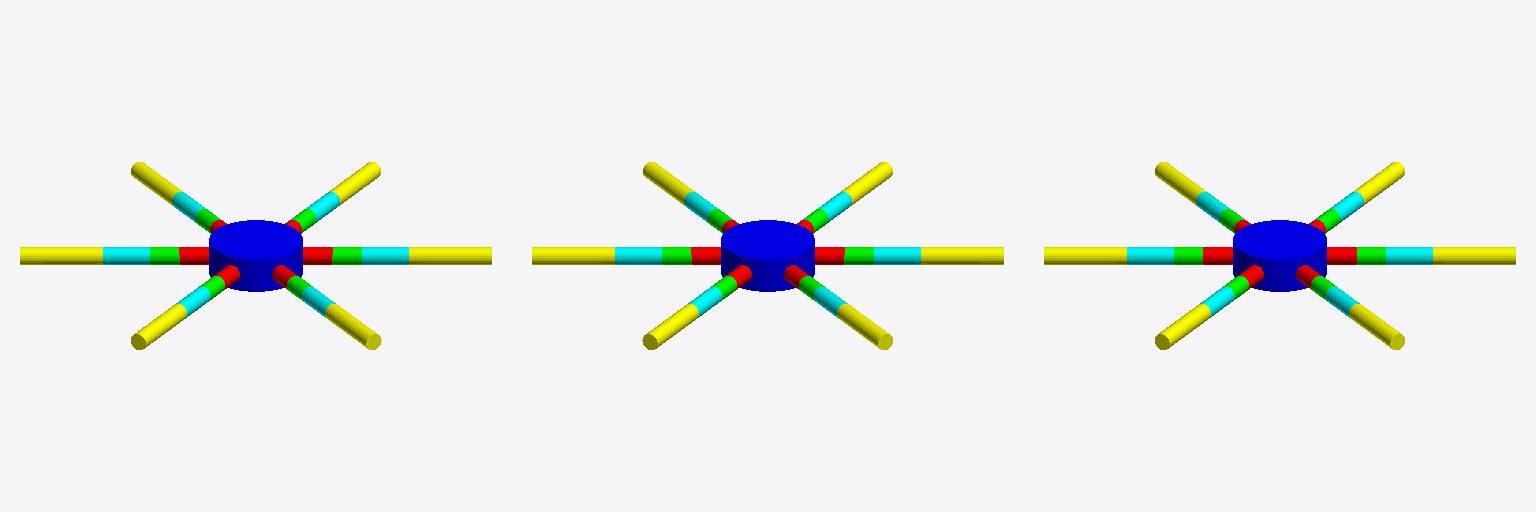
URDF robot description (hexapod):

<robot name="hexapod">

  <link name="body">
    <visual>
      <geometry>
        <cylinder radius="0.08" length="0.06"/>
      </geometry>
      <origin xyz="0 0 0"/>
      <material name="blue">
        <color rgba="0 0 1 1"/>
      </material>
    </visual>
    <collision>
      <geometry>
        <cylinder radius="0.08" length="0.06"/>
      </geometry>
      <origin xyz="0 0 0"/>
    </collision>
    <inertial>
      <mass value="0.5"/>
      <inertia ixx="0.001" ixy="0.0" ixz="0.0" iyy="0.001" iyz="0.0" izz="0.001"/>
    </inertial>
  </link>


  <link name="a1">
    <visual>
      <geometry>
        <cylinder radius="0.015" length="0.05"/>
      </geometry>
      <origin rpy="1.57 0 0" xyz="0 0.025 0" />
      <material name="red">
        <color rgba="1 0 0 1"/>
      </material>
    </visual>
    <collision>
      <geometry>
        <cylinder radius="0.015" length="0.05"/>
      </geometry>
      <origin rpy="1.57 0 0" xyz="0 0.025 0" />
    </collision>
    <inertial>
      <mass value="0.1"/>
      <inertia ixx="0.001" ixy="0.0" ixz="0.0" iyy="0.001" iyz="0.0" izz="0.001"/>
    </inertial>
  </link>

  <joint name="a1_to_body" type="fixed">
    <origin rpy="0 0 0" xyz="0 0.08 0"/>
    <parent link="body"/>
    <child link="a1"/>
  </joint>

  <!-- B -->

  <link name="b1">
    <visual>
      <geometry>
        <cylinder radius="0.015" length="0.05"/>
      </geometry>
      <origin rpy="1.57 0 0" xyz="0 0.025 0" />
      <material name="green">
        <color rgba="0 1 0 1"/>
      </material>
    </visual>
    <collision>
      <geometry>
        <cylinder radius="0.015" length="0.05"/>
      </geometry>
      <origin rpy="1.57 0 0" xyz="0 0.025 0" />
    </collision>
    <inertial>
      <mass value="0.1"/>
      <inertia ixx="0.001" ixy="0.0" ixz="0.0" iyy="0.001" iyz="0.0" izz="0.001"/>
    </inertial>

  </link>

  <joint name="u1" type="revolute">
    <origin rpy="0 0 0" xyz="0 0.05 0"/>
    <parent link="a1"/>
    <child link="b1"/>
    <axis xyz="0 0 1"/>
    <limit effort="10" lower="-1.57" upper="1.57" velocity="1"/>
  </joint>

  <link name="c1">
    <visual>
      <geometry>
        <cylinder radius="0.015" length="0.08"/>
      </geometry>
      <origin rpy="1.57 0 0" xyz="0 0.04 0" />
      <material name="cyan">
        <color rgba="0 1 1 1"/>
      </material>
    </visual>
    <collision>
      <geometry>
        <cylinder radius="0.015" length="0.08"/>
      </geometry>
      <origin rpy="1.57 0 0" xyz="0 0.04 0" />
    </collision>
    <inertial>
      <mass value="0.1"/>
      <inertia ixx="0.001" ixy="0.0" ixz="0.0" iyy="0.001" iyz="0.0" izz="0.001"/>
    </inertial>

  </link>

  <joint name="v1" type="revolute">
    <origin rpy="0 0 0" xyz="0 0.05 0"/>
    <parent link="b1"/>
    <child link="c1"/>
    <axis xyz="1 0 0"/>
    <limit effort="10" lower="-1.57" upper="1.57" velocity="1"/>
  </joint>

  <link name="d1">
    <visual>
      <geometry>
        <cylinder radius="0.015" length="0.14"/>
      </geometry>
      <origin rpy="1.57 0 0" xyz="0 0.07 0" />
      <material name="jaune">
        <color rgba="1 1 0 1"/>
      </material>
    </visual>
    <collision>
      <geometry>
        <cylinder radius="0.015" length="0.14"/>
      </geometry>
      <origin rpy="1.57 0 0" xyz="0 0.07 0" />
    </collision>
    <inertial>
      <mass value="0.1"/>
      <inertia ixx="0.001" ixy="0.0" ixz="0.0" iyy="0.001" iyz="0.0" izz="0.001"/>
    </inertial>

  </link>

  <joint name="w1" type="revolute">
    <origin rpy="0 0 0" xyz="0 0.08 0"/>
    <parent link="c1"/>
    <child link="d1"/>
    <axis xyz="1 0 0"/>
    <limit effort="10" lower="-1.57" upper="1.57" velocity="1"/>
  </joint>


  <link name="a2">
    <visual>
      <geometry>
        <cylinder radius="0.015" length="0.05"/>
      </geometry>
      <origin rpy="1.57 0 0" xyz="0 0.025 0" />
      <material name="red">
        <color rgba="1 0 0 1"/>
      </material>
    </visual>
    <collision>
      <geometry>
        <cylinder radius="0.015" length="0.05"/>
      </geometry>
      <origin rpy="1.57 0 0" xyz="0 0.025 0" />
    </collision>
    <inertial>
      <mass value="0.1"/>
      <inertia ixx="0.001" ixy="0.0" ixz="0.0" iyy="0.001" iyz="0.0" izz="0.001"/>
    </inertial>
  </link>

  <joint name="a2_to_body" type="fixed">
    <origin rpy="0 0 -1.0472" xyz="0.069 0.04 0"/>
    <parent link="body"/>
    <child link="a2"/>
  </joint>

  <!-- B -->

  <link name="b2">
    <visual>
      <geometry>
        <cylinder radius="0.015" length="0.05"/>
      </geometry>
      <origin rpy="1.57 0 0" xyz="0 0.025 0" />
      <material name="green">
        <color rgba="0 1 0 1"/>
      </material>
    </visual>
    <collision>
      <geometry>
        <cylinder radius="0.015" length="0.05"/>
      </geometry>
      <origin rpy="1.57 0 0" xyz="0 0.025 0" />
    </collision>
    <inertial>
      <mass value="0.1"/>
      <inertia ixx="0.001" ixy="0.0" ixz="0.0" iyy="0.001" iyz="0.0" izz="0.001"/>
    </inertial>

  </link>

  <joint name="u2" type="revolute">
    <origin rpy="0 0 0" xyz="0 0.05 0"/>
    <parent link="a2"/>
    <child link="b2"/>
    <axis xyz="0 0 1"/>
    <limit effort="10" lower="-1.57" upper="1.57" velocity="1"/>
  </joint>

  <link name="c2">
    <visual>
      <geometry>
        <cylinder radius="0.015" length="0.08"/>
      </geometry>
      <origin rpy="1.57 0 0" xyz="0 0.04 0" />
      <material name="cyan">
        <color rgba="0 1 1 1"/>
      </material>
    </visual>
    <collision>
      <geometry>
        <cylinder radius="0.015" length="0.08"/>
      </geometry>
      <origin rpy="1.57 0 0" xyz="0 0.04 0" />
    </collision>
    <inertial>
      <mass value="0.1"/>
      <inertia ixx="0.001" ixy="0.0" ixz="0.0" iyy="0.001" iyz="0.0" izz="0.001"/>
    </inertial>

  </link>

  <joint name="v2" type="revolute">
    <origin rpy="0 0 0" xyz="0 0.05 0"/>
    <parent link="b2"/>
    <child link="c2"/>
    <axis xyz="1 0 0"/>
    <limit effort="10" lower="-1.57" upper="1.57" velocity="1"/>
  </joint>

  <link name="d2">
    <visual>
      <geometry>
        <cylinder radius="0.015" length="0.14"/>
      </geometry>
      <origin rpy="1.57 0 0" xyz="0 0.07 0" />
      <material name="jaune">
        <color rgba="1 1 0 1"/>
      </material>
    </visual>
    <collision>
      <geometry>
        <cylinder radius="0.015" length="0.14"/>
      </geometry>
      <origin rpy="1.57 0 0" xyz="0 0.07 0" />
    </collision>
    <inertial>
      <mass value="0.1"/>
      <inertia ixx="0.001" ixy="0.0" ixz="0.0" iyy="0.001" iyz="0.0" izz="0.001"/>
    </inertial>

  </link>

  <joint name="w2" type="revolute">
    <origin rpy="0 0 0" xyz="0 0.08 0"/>
    <parent link="c2"/>
    <child link="d2"/>
    <axis xyz="1 0 0"/>
    <limit effort="10" lower="-1.57" upper="1.57" velocity="1"/>
  </joint>


  <link name="a3">
    <visual>
      <geometry>
        <cylinder radius="0.015" length="0.05"/>
      </geometry>
      <origin rpy="1.57 0 0" xyz="0 0.025 0" />
      <material name="red">
        <color rgba="1 0 0 1"/>
      </material>
    </visual>
    <collision>
      <geometry>
        <cylinder radius="0.015" length="0.05"/>
      </geometry>
      <origin rpy="1.57 0 0" xyz="0 0.025 0" />
    </collision>
    <inertial>
      <mass value="0.1"/>
      <inertia ixx="0.001" ixy="0.0" ixz="0.0" iyy="0.001" iyz="0.0" izz="0.001"/>
    </inertial>
  </link>

  <joint name="a3_to_body" type="fixed">
    <origin rpy="0 0 -2.0944" xyz="0.069 -0.04 0"/>
    <parent link="body"/>
    <child link="a3"/>
  </joint>

  <!-- B -->

  <link name="b3">
    <visual>
      <geometry>
        <cylinder radius="0.015" length="0.05"/>
      </geometry>
      <origin rpy="1.57 0 0" xyz="0 0.025 0" />
      <material name="green">
        <color rgba="0 1 0 1"/>
      </material>
    </visual>
    <collision>
      <geometry>
        <cylinder radius="0.015" length="0.05"/>
      </geometry>
      <origin rpy="1.57 0 0" xyz="0 0.025 0" />
    </collision>
    <inertial>
      <mass value="0.1"/>
      <inertia ixx="0.001" ixy="0.0" ixz="0.0" iyy="0.001" iyz="0.0" izz="0.001"/>
    </inertial>

  </link>

  <joint name="u3" type="revolute">
    <origin rpy="0 0 0" xyz="0 0.05 0"/>
    <parent link="a3"/>
    <child link="b3"/>
    <axis xyz="0 0 1"/>
    <limit effort="10" lower="-1.57" upper="1.57" velocity="1"/>
  </joint>

  <link name="c3">
    <visual>
      <geometry>
        <cylinder radius="0.015" length="0.08"/>
      </geometry>
      <origin rpy="1.57 0 0" xyz="0 0.04 0" />
      <material name="cyan">
        <color rgba="0 1 1 1"/>
      </material>
    </visual>
    <collision>
      <geometry>
        <cylinder radius="0.015" length="0.08"/>
      </geometry>
      <origin rpy="1.57 0 0" xyz="0 0.04 0" />
    </collision>
    <inertial>
      <mass value="0.1"/>
      <inertia ixx="0.001" ixy="0.0" ixz="0.0" iyy="0.001" iyz="0.0" izz="0.001"/>
    </inertial>

  </link>

  <joint name="v3" type="revolute">
    <origin rpy="0 0 0" xyz="0 0.05 0"/>
    <parent link="b3"/>
    <child link="c3"/>
    <axis xyz="1 0 0"/>
    <limit effort="10" lower="-1.57" upper="1.57" velocity="1"/>
  </joint>

  <link name="d3">
    <visual>
      <geometry>
        <cylinder radius="0.015" length="0.14"/>
      </geometry>
      <origin rpy="1.57 0 0" xyz="0 0.07 0" />
      <material name="jaune">
        <color rgba="1 1 0 1"/>
      </material>
    </visual>
    <collision>
      <geometry>
        <cylinder radius="0.015" length="0.14"/>
      </geometry>
      <origin rpy="1.57 0 0" xyz="0 0.07 0" />
    </collision>
    <inertial>
      <mass value="0.1"/>
      <inertia ixx="0.001" ixy="0.0" ixz="0.0" iyy="0.001" iyz="0.0" izz="0.001"/>
    </inertial>

  </link>

  <joint name="w3" type="revolute">
    <origin rpy="0 0 0" xyz="0 0.08 0"/>
    <parent link="c3"/>
    <child link="d3"/>
    <axis xyz="1 0 0"/>
    <limit effort="10" lower="-1.57" upper="1.57" velocity="1"/>
  </joint>


  <link name="a4">
    <visual>
      <geometry>
        <cylinder radius="0.015" length="0.05"/>
      </geometry>
      <origin rpy="1.57 0 0" xyz="0 0.025 0" />
      <material name="red">
        <color rgba="1 0 0 1"/>
      </material>
    </visual>
    <collision>
      <geometry>
        <cylinder radius="0.015" length="0.05"/>
      </geometry>
      <origin rpy="1.57 0 0" xyz="0 0.025 0" />
    </collision>
    <inertial>
      <mass value="0.1"/>
      <inertia ixx="0.001" ixy="0.0" ixz="0.0" iyy="0.001" iyz="0.0" izz="0.001"/>
    </inertial>
  </link>

  <joint name="a4_to_body" type="fixed">
    <origin rpy="0 0 -3.1416" xyz="0.0 -0.08 0"/>
    <parent link="body"/>
    <child link="a4"/>
  </joint>

  <!-- B -->

  <link name="b4">
    <visual>
      <geometry>
        <cylinder radius="0.015" length="0.05"/>
      </geometry>
      <origin rpy="1.57 0 0" xyz="0 0.025 0" />
      <material name="green">
        <color rgba="0 1 0 1"/>
      </material>
    </visual>
    <collision>
      <geometry>
        <cylinder radius="0.015" length="0.05"/>
      </geometry>
      <origin rpy="1.57 0 0" xyz="0 0.025 0" />
    </collision>
    <inertial>
      <mass value="0.1"/>
      <inertia ixx="0.001" ixy="0.0" ixz="0.0" iyy="0.001" iyz="0.0" izz="0.001"/>
    </inertial>

  </link>

  <joint name="u4" type="revolute">
    <origin rpy="0 0 0" xyz="0 0.05 0"/>
    <parent link="a4"/>
    <child link="b4"/>
    <axis xyz="0 0 1"/>
    <limit effort="10" lower="-1.57" upper="1.57" velocity="1"/>
  </joint>

  <link name="c4">
    <visual>
      <geometry>
        <cylinder radius="0.015" length="0.08"/>
      </geometry>
      <origin rpy="1.57 0 0" xyz="0 0.04 0" />
      <material name="cyan">
        <color rgba="0 1 1 1"/>
      </material>
    </visual>
    <collision>
      <geometry>
        <cylinder radius="0.015" length="0.08"/>
      </geometry>
      <origin rpy="1.57 0 0" xyz="0 0.04 0" />
    </collision>
    <inertial>
      <mass value="0.1"/>
      <inertia ixx="0.001" ixy="0.0" ixz="0.0" iyy="0.001" iyz="0.0" izz="0.001"/>
    </inertial>

  </link>

  <joint name="v4" type="revolute">
    <origin rpy="0 0 0" xyz="0 0.05 0"/>
    <parent link="b4"/>
    <child link="c4"/>
    <axis xyz="1 0 0"/>
    <limit effort="10" lower="-1.57" upper="1.57" velocity="1"/>
  </joint>

  <link name="d4">
    <visual>
      <geometry>
        <cylinder radius="0.015" length="0.14"/>
      </geometry>
      <origin rpy="1.57 0 0" xyz="0 0.07 0" />
      <material name="jaune">
        <color rgba="1 1 0 1"/>
      </material>
    </visual>
    <collision>
      <geometry>
        <cylinder radius="0.015" length="0.14"/>
      </geometry>
      <origin rpy="1.57 0 0" xyz="0 0.07 0" />
    </collision>
    <inertial>
      <mass value="0.1"/>
      <inertia ixx="0.001" ixy="0.0" ixz="0.0" iyy="0.001" iyz="0.0" izz="0.001"/>
    </inertial>

  </link>

  <joint name="w4" type="revolute">
    <origin rpy="0 0 0" xyz="0 0.08 0"/>
    <parent link="c4"/>
    <child link="d4"/>
    <axis xyz="1 0 0"/>
    <limit effort="10" lower="-1.57" upper="1.57" velocity="1"/>
  </joint>


  <link name="a5">
    <visual>
      <geometry>
        <cylinder radius="0.015" length="0.05"/>
      </geometry>
      <origin rpy="1.57 0 0" xyz="0 0.025 0" />
      <material name="red">
        <color rgba="1 0 0 1"/>
      </material>
    </visual>
    <collision>
      <geometry>
        <cylinder radius="0.015" length="0.05"/>
      </geometry>
      <origin rpy="1.57 0 0" xyz="0 0.025 0" />
    </collision>
    <inertial>
      <mass value="0.1"/>
      <inertia ixx="0.001" ixy="0.0" ixz="0.0" iyy="0.001" iyz="0.0" izz="0.001"/>
    </inertial>
  </link>

  <joint name="a5_to_body" type="fixed">
    <origin rpy="0 0 2.0944" xyz="-0.0693 -0.04 0"/>
    <parent link="body"/>
    <child link="a5"/>
  </joint>

  <!-- B -->

  <link name="b5">
    <visual>
      <geometry>
        <cylinder radius="0.015" length="0.05"/>
      </geometry>
      <origin rpy="1.57 0 0" xyz="0 0.025 0" />
      <material name="green">
        <color rgba="0 1 0 1"/>
      </material>
    </visual>
    <collision>
      <geometry>
        <cylinder radius="0.015" length="0.05"/>
      </geometry>
      <origin rpy="1.57 0 0" xyz="0 0.025 0" />
    </collision>
    <inertial>
      <mass value="0.1"/>
      <inertia ixx="0.001" ixy="0.0" ixz="0.0" iyy="0.001" iyz="0.0" izz="0.001"/>
    </inertial>

  </link>

  <joint name="u5" type="revolute">
    <origin rpy="0 0 0" xyz="0 0.05 0"/>
    <parent link="a5"/>
    <child link="b5"/>
    <axis xyz="0 0 1"/>
    <limit effort="10" lower="-1.57" upper="1.57" velocity="1"/>
  </joint>

  <link name="c5">
    <visual>
      <geometry>
        <cylinder radius="0.015" length="0.08"/>
      </geometry>
      <origin rpy="1.57 0 0" xyz="0 0.04 0" />
      <material name="cyan">
        <color rgba="0 1 1 1"/>
      </material>
    </visual>
    <collision>
      <geometry>
        <cylinder radius="0.015" length="0.08"/>
      </geometry>
      <origin rpy="1.57 0 0" xyz="0 0.04 0" />
    </collision>
    <inertial>
      <mass value="0.1"/>
      <inertia ixx="0.001" ixy="0.0" ixz="0.0" iyy="0.001" iyz="0.0" izz="0.001"/>
    </inertial>

  </link>

  <joint name="v5" type="revolute">
    <origin rpy="0 0 0" xyz="0 0.05 0"/>
    <parent link="b5"/>
    <child link="c5"/>
    <axis xyz="1 0 0"/>
    <limit effort="10" lower="-1.57" upper="1.57" velocity="1"/>
  </joint>

  <link name="d5">
    <visual>
      <geometry>
        <cylinder radius="0.015" length="0.14"/>
      </geometry>
      <origin rpy="1.57 0 0" xyz="0 0.07 0" />
      <material name="jaune">
        <color rgba="1 1 0 1"/>
      </material>
    </visual>
    <collision>
      <geometry>
        <cylinder radius="0.015" length="0.14"/>
      </geometry>
      <origin rpy="1.57 0 0" xyz="0 0.07 0" />
    </collision>
    <inertial>
      <mass value="0.1"/>
      <inertia ixx="0.001" ixy="0.0" ixz="0.0" iyy="0.001" iyz="0.0" izz="0.001"/>
    </inertial>

  </link>

  <joint name="w5" type="revolute">
    <origin rpy="0 0 0" xyz="0 0.08 0"/>
    <parent link="c5"/>
    <child link="d5"/>
    <axis xyz="1 0 0"/>
    <limit effort="10" lower="-1.57" upper="1.57" velocity="1"/>
  </joint>


  <link name="a6">
    <visual>
      <geometry>
        <cylinder radius="0.015" length="0.05"/>
      </geometry>
      <origin rpy="1.57 0 0" xyz="0 0.025 0" />
      <material name="red">
        <color rgba="1 0 0 1"/>
      </material>
    </visual>
    <collision>
      <geometry>
        <cylinder radius="0.015" length="0.05"/>
      </geometry>
      <origin rpy="1.57 0 0" xyz="0 0.025 0" />
    </collision>
    <inertial>
      <mass value="0.1"/>
      <inertia ixx="0.001" ixy="0.0" ixz="0.0" iyy="0.001" iyz="0.0" izz="0.001"/>
    </inertial>
  </link>

  <joint name="a6_to_body" type="fixed">
    <origin rpy="0 0 1.0472" xyz="-0.0693 0.04 0"/>
    <parent link="body"/>
    <child link="a6"/>
  </joint>

  <!-- B -->

  <link name="b6">
    <visual>
      <geometry>
        <cylinder radius="0.015" length="0.05"/>
      </geometry>
      <origin rpy="1.57 0 0" xyz="0 0.025 0" />
      <material name="green">
        <color rgba="0 1 0 1"/>
      </material>
    </visual>
    <collision>
      <geometry>
        <cylinder radius="0.015" length="0.05"/>
      </geometry>
      <origin rpy="1.57 0 0" xyz="0 0.025 0" />
    </collision>
    <inertial>
      <mass value="0.1"/>
      <inertia ixx="0.001" ixy="0.0" ixz="0.0" iyy="0.001" iyz="0.0" izz="0.001"/>
    </inertial>

  </link>

  <joint name="u6" type="revolute">
    <origin rpy="0 0 0" xyz="0 0.05 0"/>
    <parent link="a6"/>
    <child link="b6"/>
    <axis xyz="0 0 1"/>
    <limit effort="10" lower="-1.57" upper="1.57" velocity="1"/>
  </joint>

  <link name="c6">
    <visual>
      <geometry>
        <cylinder radius="0.015" length="0.08"/>
      </geometry>
      <origin rpy="1.57 0 0" xyz="0 0.04 0" />
      <material name="cyan">
        <color rgba="0 1 1 1"/>
      </material>
    </visual>
    <collision>
      <geometry>
        <cylinder radius="0.015" length="0.08"/>
      </geometry>
      <origin rpy="1.57 0 0" xyz="0 0.04 0" />
    </collision>
    <inertial>
      <mass value="0.1"/>
      <inertia ixx="0.001" ixy="0.0" ixz="0.0" iyy="0.001" iyz="0.0" izz="0.001"/>
    </inertial>

  </link>

  <joint name="v6" type="revolute">
    <origin rpy="0 0 0" xyz="0 0.05 0"/>
    <parent link="b6"/>
    <child link="c6"/>
    <axis xyz="1 0 0"/>
    <limit effort="10" lower="-1.57" upper="1.57" velocity="1"/>
  </joint>

  <link name="d6">
    <visual>
      <geometry>
        <cylinder radius="0.015" length="0.14"/>
      </geometry>
      <origin rpy="1.57 0 0" xyz="0 0.07 0" />
      <material name="jaune">
        <color rgba="1 1 0 1"/>
      </material>
    </visual>
    <collision>
      <geometry>
        <cylinder radius="0.015" length="0.14"/>
      </geometry>
      <origin rpy="1.57 0 0" xyz="0 0.07 0" />
    </collision>
    <inertial>
      <mass value="0.1"/>
      <inertia ixx="0.001" ixy="0.0" ixz="0.0" iyy="0.001" iyz="0.0" izz="0.001"/>
    </inertial>

  </link>

  <joint name="w6" type="revolute">
    <origin rpy="0 0 0" xyz="0 0.08 0"/>
    <parent link="c6"/>
    <child link="d6"/>
    <axis xyz="1 0 0"/>
    <limit effort="10" lower="-1.57" upper="1.57" velocity="1"/>
  </joint>

</robot>

--- Render facts (derived) ---
3 views of the same robot in one strip: view 1: azimuth 30°, elevation 25°; view 2: azimuth 150°, elevation 25°; view 3: azimuth 270°, elevation 25° (orthographic).
Robot: hexapod — 25 links, 24 joints (18 revolute, 6 fixed); root link body; default pose: all joints at 0.
Visible links, largest first — view 1: body, d3, d6, d4, d5, d1, d2, c3, c6, b3, b6, a3 (+1 smaller); view 2: body, d2, d5, d1, d6, d3, d4, c2, c5, b2, b5, a2 (+1 smaller); view 3: body, d1, d4, d2, d3, d5, d6, c1, c4, a1, a4.
Boxes of the visible links, bbox=[...] form: body: bbox=[209, 220, 302, 291]; d3: bbox=[409, 247, 491, 264]; d6: bbox=[20, 247, 102, 264]; d4: bbox=[325, 304, 381, 349]; d5: bbox=[131, 304, 186, 349]; d1: bbox=[131, 162, 182, 205]; d2: bbox=[329, 162, 380, 205]; c3: bbox=[362, 247, 408, 264]; c6: bbox=[103, 247, 149, 264]; b3: bbox=[332, 247, 361, 264]; b6: bbox=[150, 247, 179, 264]; a3: bbox=[303, 247, 332, 264]; body: bbox=[721, 220, 814, 291]; d2: bbox=[532, 247, 614, 264]; d5: bbox=[921, 247, 1003, 264]; d1: bbox=[642, 304, 698, 349]; d6: bbox=[837, 304, 892, 349]; d3: bbox=[643, 162, 694, 205]; d4: bbox=[841, 162, 892, 205]; c2: bbox=[615, 247, 661, 264]; c5: bbox=[874, 247, 920, 264]; b2: bbox=[662, 247, 691, 264]; b5: bbox=[844, 247, 873, 264]; a2: bbox=[691, 247, 720, 264]; body: bbox=[1233, 220, 1326, 291]; d1: bbox=[1433, 247, 1515, 264]; d4: bbox=[1044, 247, 1126, 264]; d2: bbox=[1349, 304, 1404, 349]; d3: bbox=[1155, 304, 1210, 349]; d5: bbox=[1155, 162, 1206, 206]; d6: bbox=[1353, 162, 1404, 206]; c1: bbox=[1386, 247, 1432, 264]; c4: bbox=[1127, 247, 1173, 264]; a1: bbox=[1327, 247, 1356, 264]; a4: bbox=[1203, 247, 1232, 264].
Bounding box of the posed robot: 0.7076 × 0.8 × 0.06 m (x, y, z).
Geometry: primitives only (box / cylinder / sphere), no mesh files.
